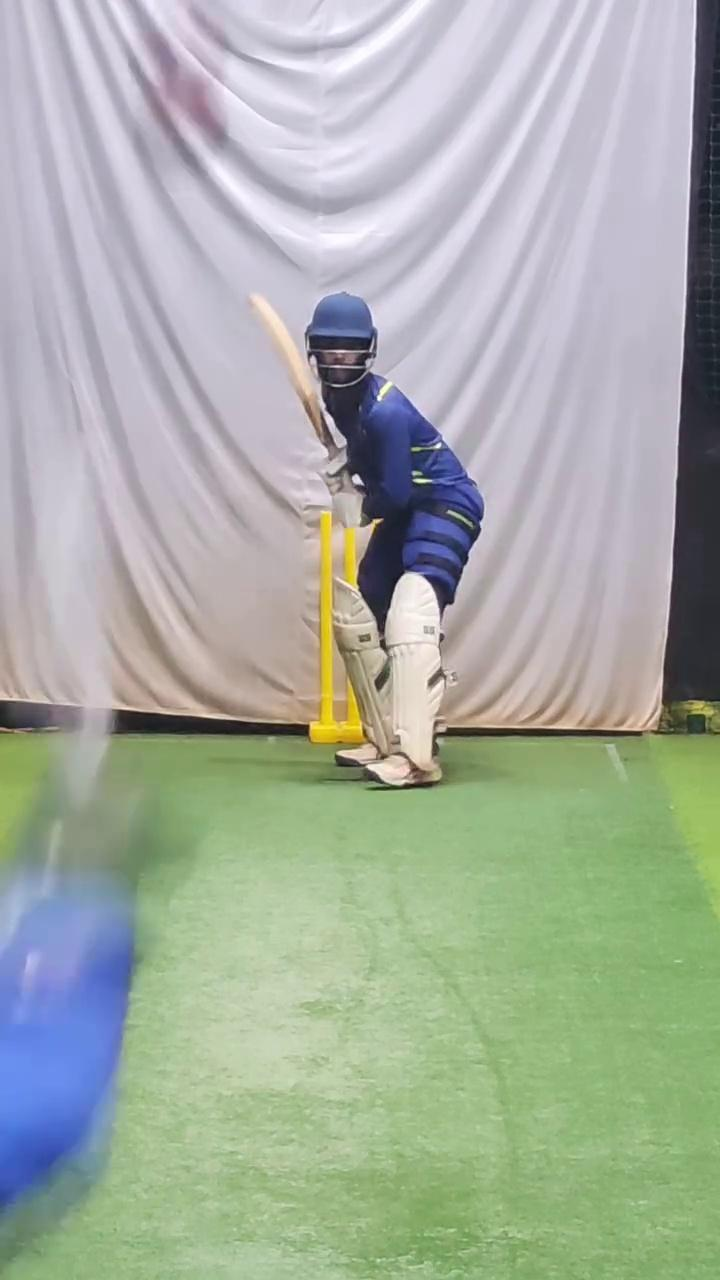bat: (245, 280, 342, 454)
